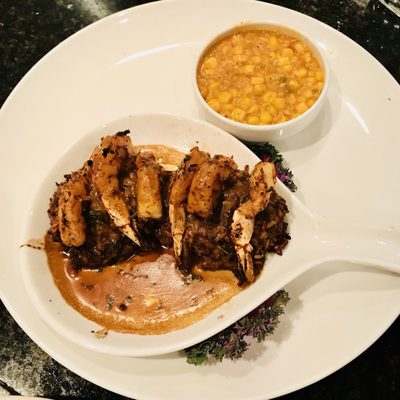sushi: (193, 22, 330, 146)
